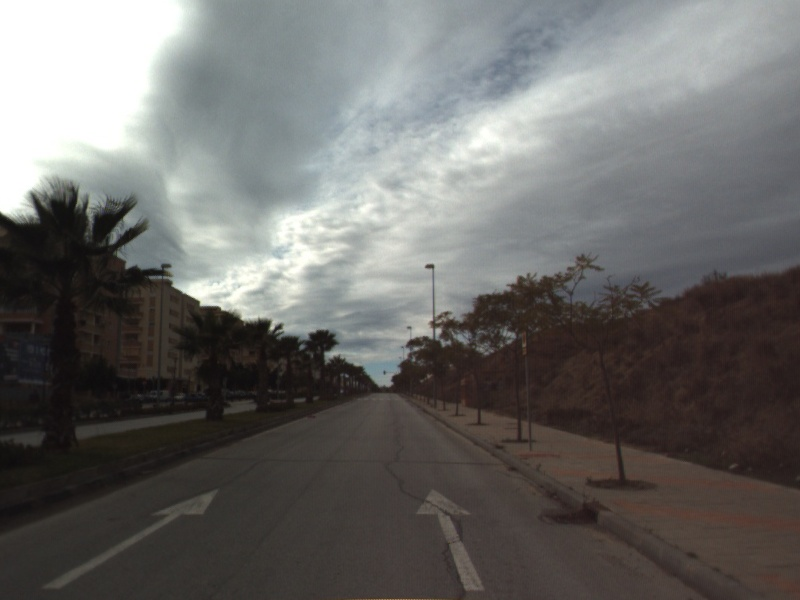STRAIGHT: (39, 485, 223, 591), (413, 486, 488, 593)
